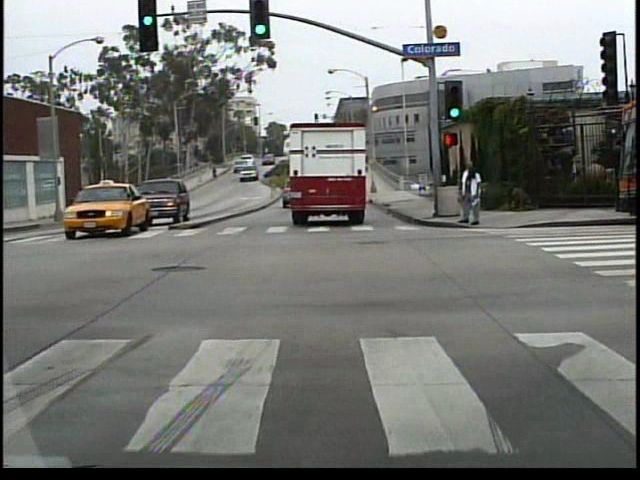person: (461, 161, 488, 228)
